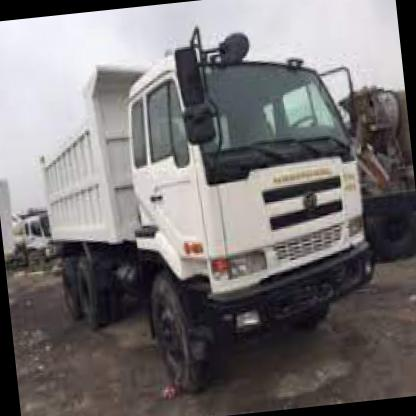truck: (117, 30, 389, 399)
